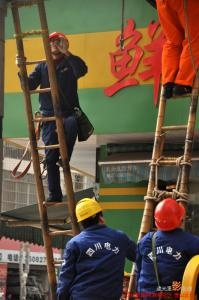red: (153, 197, 185, 233), (45, 30, 68, 55)
yellow: (74, 197, 104, 229)
